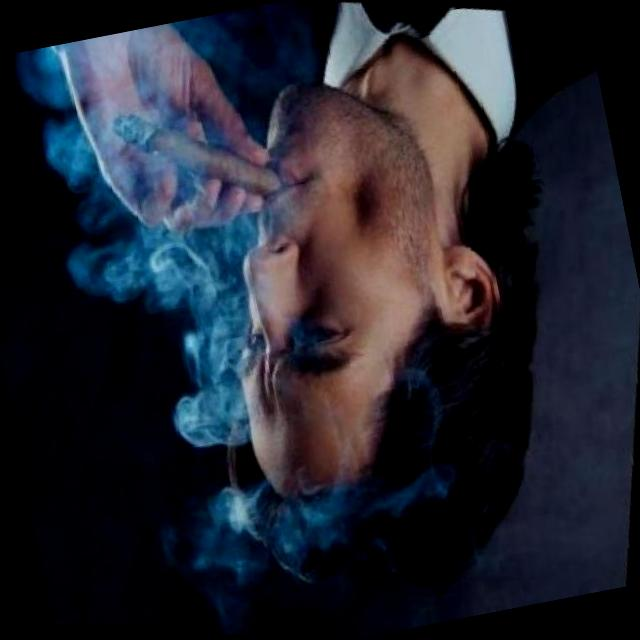cigarette: (88, 74, 302, 236)
